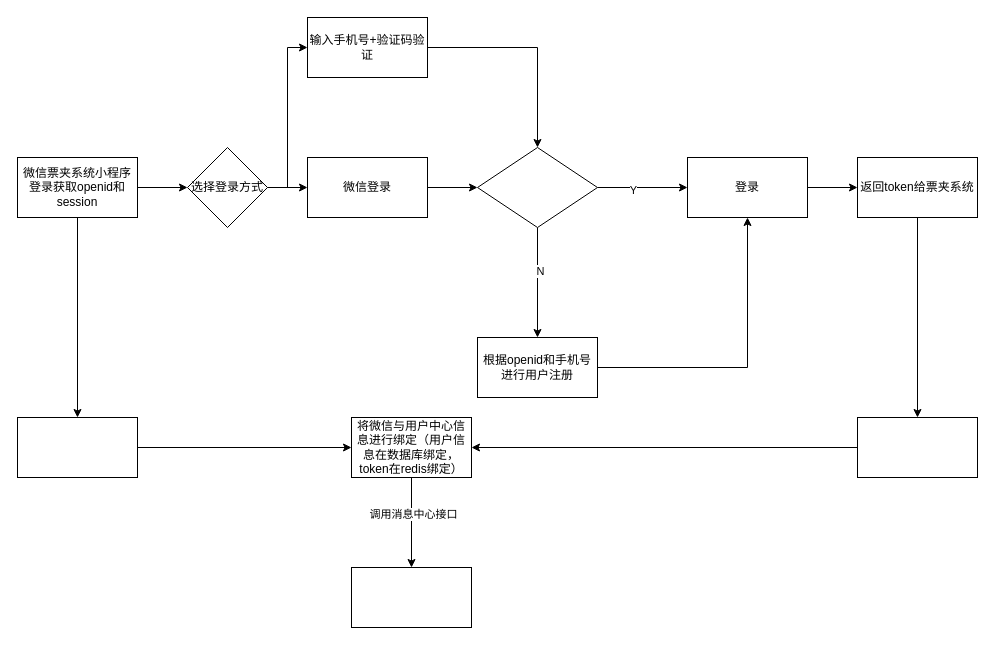
This 995x645 diagram has some shape labels left out. The shapes that lost their labels are listed below. From the top down, each one's box as (x1, y1, x2, y2) in pixels, then its label:
(476, 146, 598, 228): 用户中心是否 有此用户（openid和手机号判断）
(16, 416, 138, 478): 保存票夹系统微信小程序的openid，将微信session存入redis
(856, 416, 978, 478): 返回用户信息和token给票夹系统
(350, 566, 472, 628): 微信小程序 消息提醒
